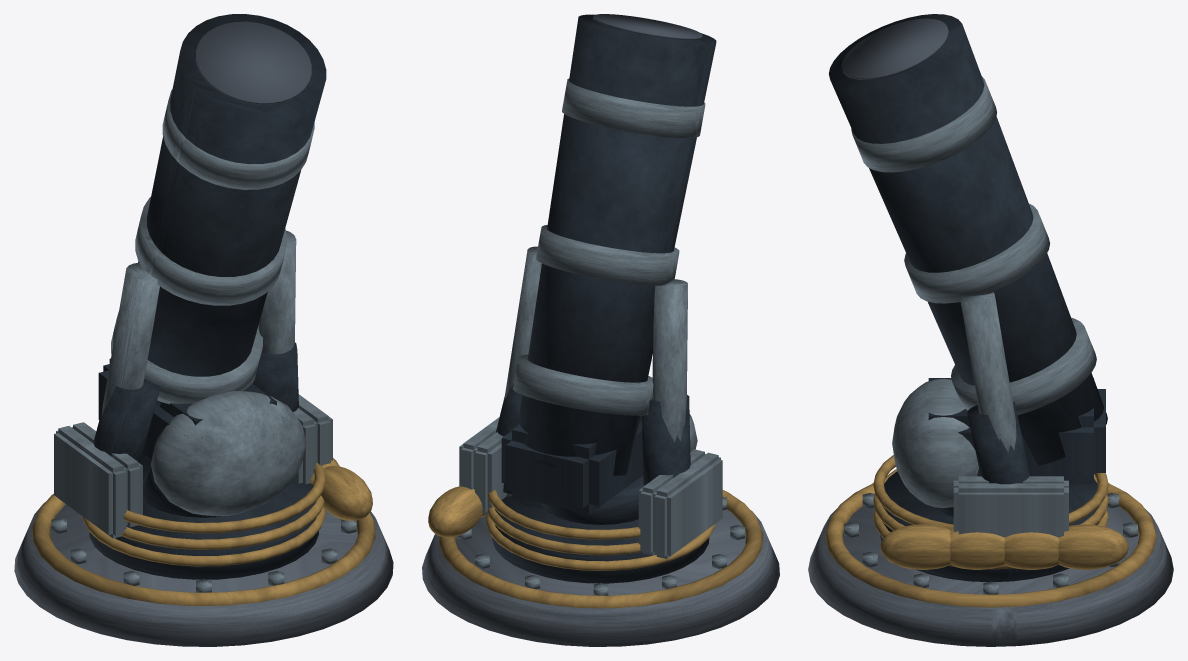
File: tower_mortar_3.glb
3 renders of one model, left to right at view 1: azimuth 30°, elevation 25°; view 2: azimuth 150°, elevation 25°; view 3: azimuth 270°, elevation 25°, orthographic. The views are drawn at different scales.
Parts seen in each view (by area): view 1: Forged_black_iron.001, Weathered_blue_steel.001, Weathered_granite, Antique_brass, Weathered_blue_steel, Forged_black_iron, Eye_socket; view 2: Forged_black_iron.001, Weathered_blue_steel.001, Weathered_granite, Antique_brass, Weathered_blue_steel, Forged_black_iron, Eye_socket; view 3: Forged_black_iron.001, Weathered_blue_steel.001, Weathered_granite, Antique_brass, Weathered_blue_steel, Eye_socket, Forged_black_iron.
Boxes of the visible parts, box(x1,y1,x2,y2) form: Forged_black_iron.001: box(93, 14, 326, 463); Weathered_blue_steel.001: box(101, 89, 314, 516); Weathered_granite: box(14, 502, 393, 646); Antique_brass: box(32, 458, 375, 605); Weathered_blue_steel: box(51, 394, 356, 592); Forged_black_iron: box(89, 453, 318, 579); Eye_socket: box(195, 21, 311, 104); Forged_black_iron.001: box(496, 14, 716, 514); Weathered_blue_steel.001: box(504, 78, 705, 496); Weathered_granite: box(422, 509, 779, 646); Antique_brass: box(428, 486, 763, 608); Weathered_blue_steel: box(456, 417, 745, 595); Forged_black_iron: box(492, 476, 709, 583); Eye_socket: box(593, 14, 702, 39); Forged_black_iron.001: box(829, 14, 1107, 484); Weathered_blue_steel.001: box(851, 76, 1096, 507); Weathered_granite: box(808, 506, 1173, 646); Antique_brass: box(825, 455, 1156, 607); Weathered_blue_steel: box(844, 476, 1137, 594); Eye_socket: box(841, 18, 948, 79); Forged_black_iron: box(880, 471, 1099, 581).
Bounding box in the file's own units: 2.7 × 4.4 × 2.7.
Materials: 5 (4 with a texture image).
